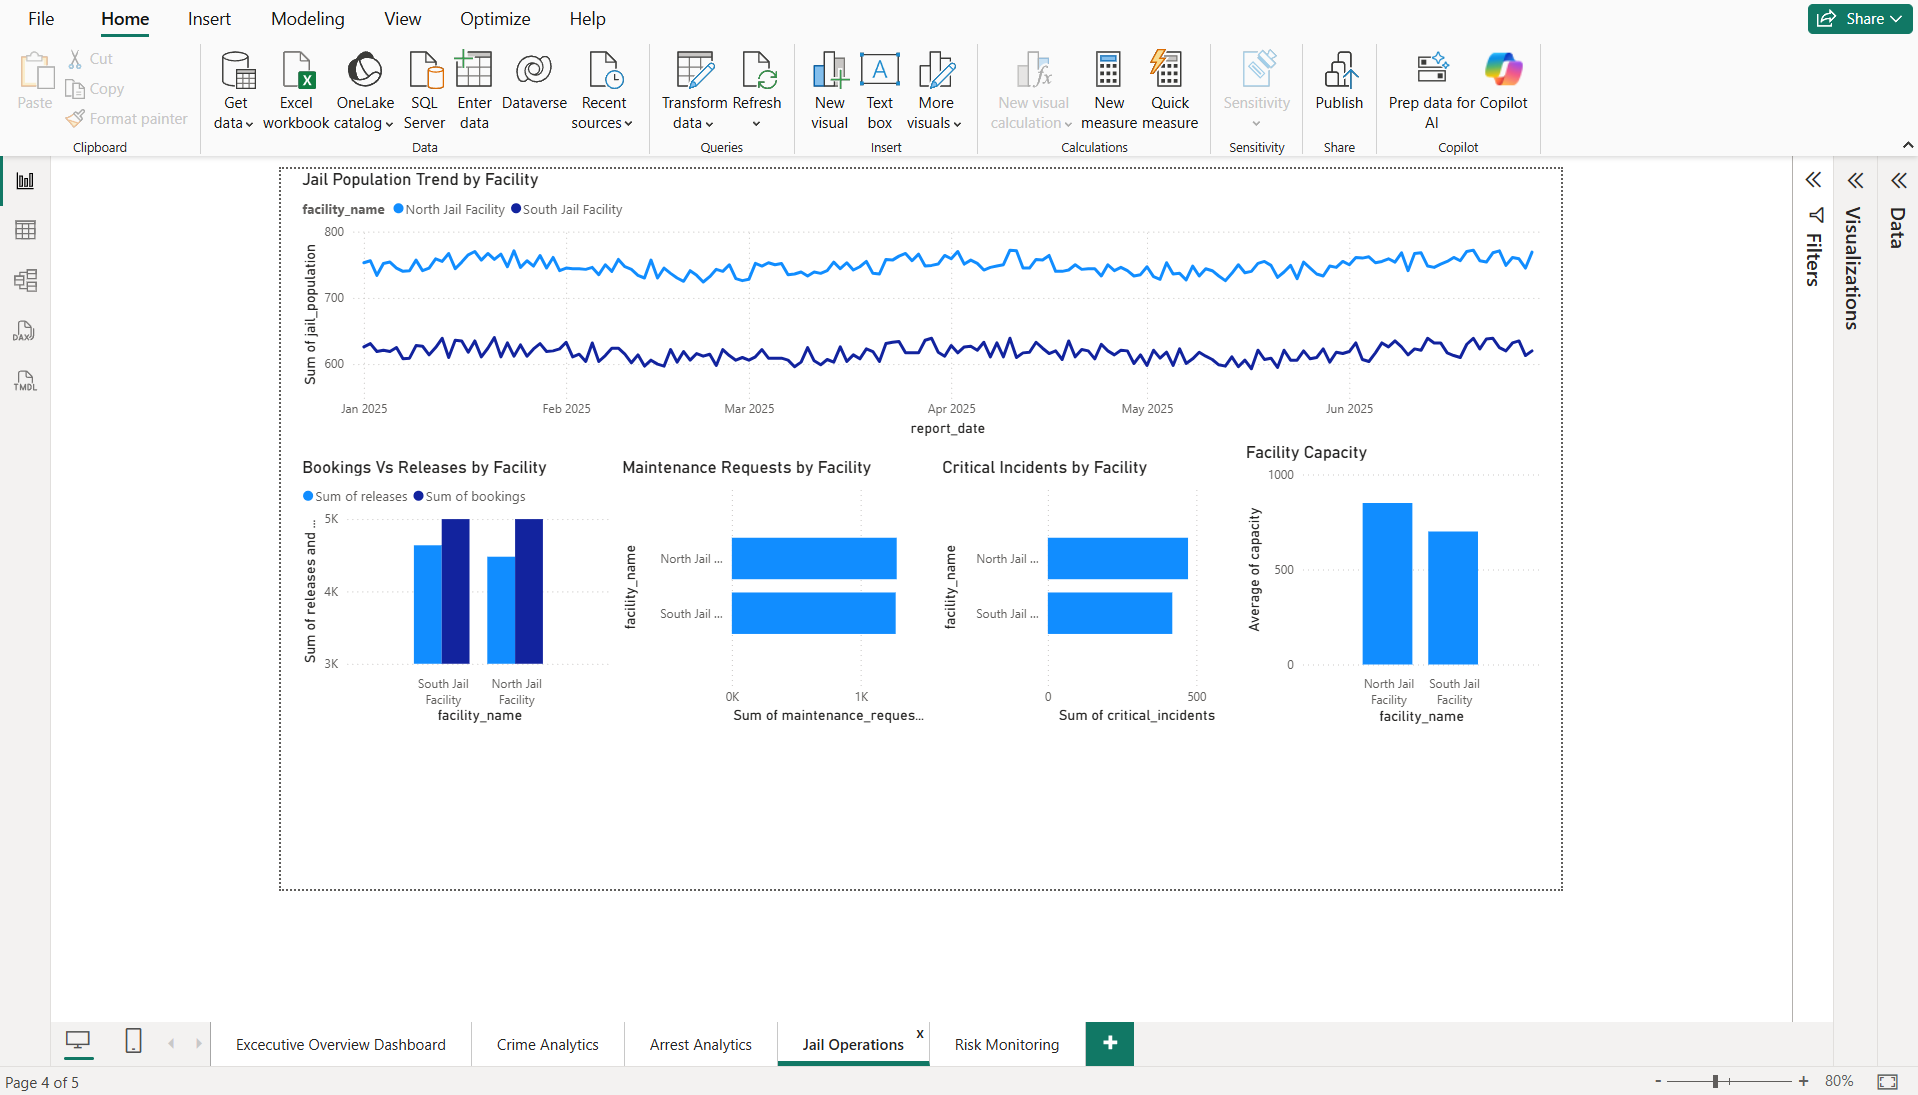

The page's visual inventory and layout, read from the dashboard file:
{"tool":"powerbi","page":{"name":"Jail Operations","canvas":[1280,720],"ordinal":3},"visuals":[{"type":"lineChart","title":"Jail Population Trend by Facility","fields":{"Category":["jail_operations.report_date"],"Y":["Sum(jail_operations.jail_population)"],"Series":["jail_operations.facility_name"]},"box":[16,0,1264,272],"z":0},{"type":"clusteredColumnChart","title":"Bookings Vs Releases by Facility ","fields":{"Category":["jail_operations.facility_name"],"Y":["Sum(jail_operations.releases)","Sum(jail_operations.bookings)"]},"box":[16,288,320,272],"z":1000},{"type":"clusteredBarChart","title":"Maintenance Requests by Facility","fields":{"Category":["jail_operations.facility_name"],"Y":["Sum(jail_operations.maintenance_requests)"]},"box":[336,288,320,272],"z":2000},{"type":"clusteredBarChart","title":"Critical Incidents by Facility","fields":{"Category":["jail_operations.facility_name"],"Y":["Sum(jail_operations.critical_incidents)"]},"box":[656,288,304,272],"z":3000},{"type":"clusteredColumnChart","title":"Facility Capacity","fields":{"Category":["jail_operations.facility_name"],"Y":["Avg(jail_operations.capacity)"]},"box":[960,272,304,288],"z":4000}]}

Visuals, with their boxes on the page's 1280x720 design canvas (x1, y1, x2, y2). These are canvas units, not pixel positions in the 1918x1095 screenshot, which may show the page scaled, cropped or inside an application window:
"Jail Population Trend by Facility" lineChart: box=[16, 0, 1280, 272]
"Bookings Vs Releases by Facility " clusteredColumnChart: box=[16, 288, 336, 560]
"Maintenance Requests by Facility" clusteredBarChart: box=[336, 288, 656, 560]
"Critical Incidents by Facility" clusteredBarChart: box=[656, 288, 960, 560]
"Facility Capacity" clusteredColumnChart: box=[960, 272, 1264, 560]
